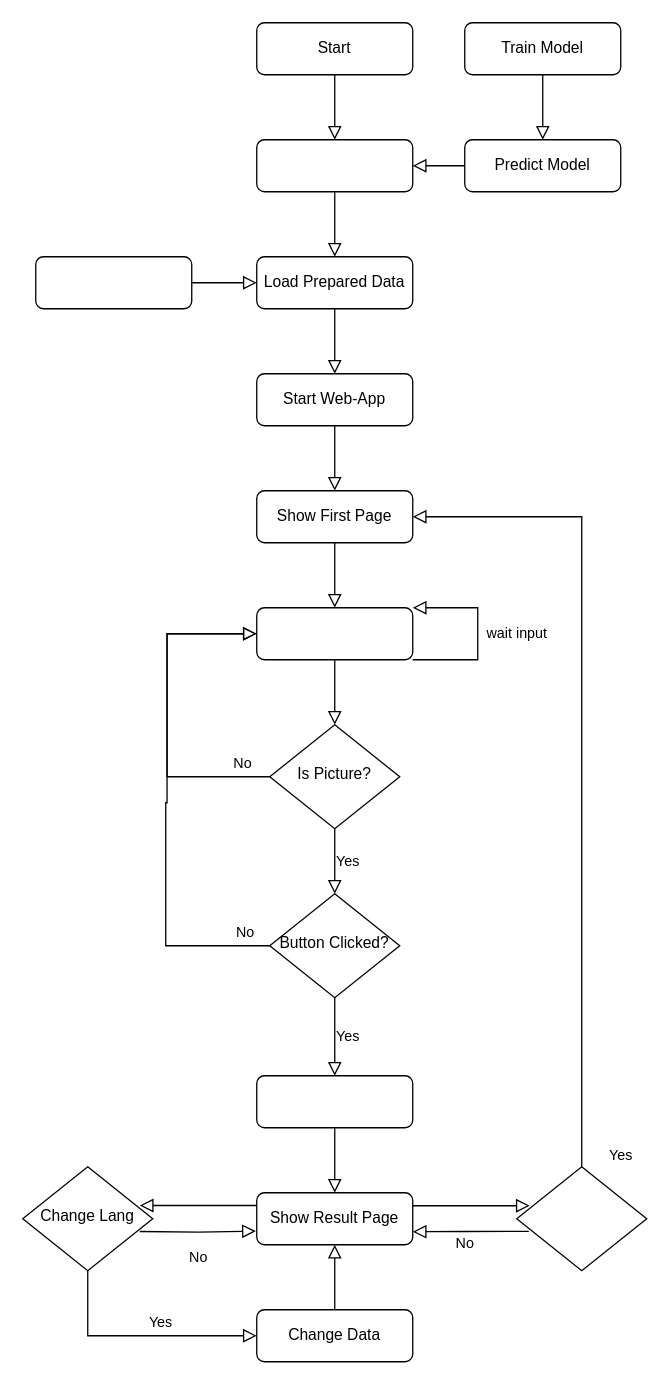
Image size: 670x1385. Some labels were removed from this diagram. Each missing label, with the centre of its shape:
"Back Button" goes at point (581, 1218).
"data.json" goes at point (113, 282).
"Load Model" goes at point (334, 165).
"Predict" goes at point (334, 1101).
"User Input Picture" goes at point (334, 633).
